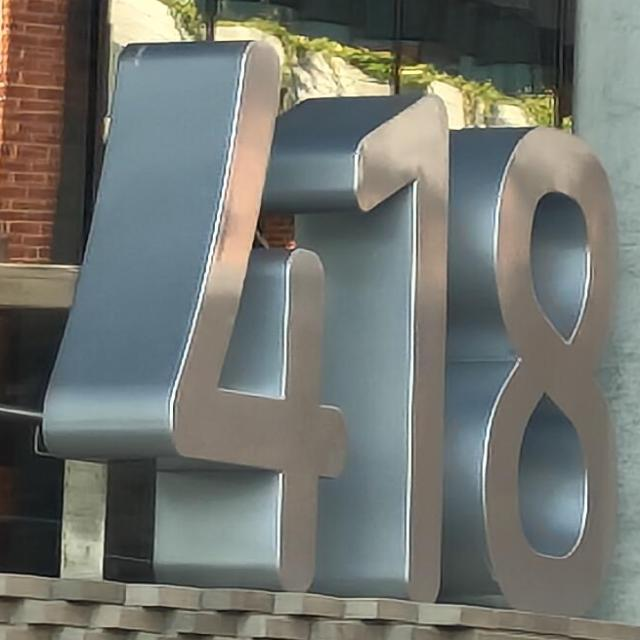character: (162, 36, 354, 598), (471, 122, 628, 626), (349, 85, 452, 609)
